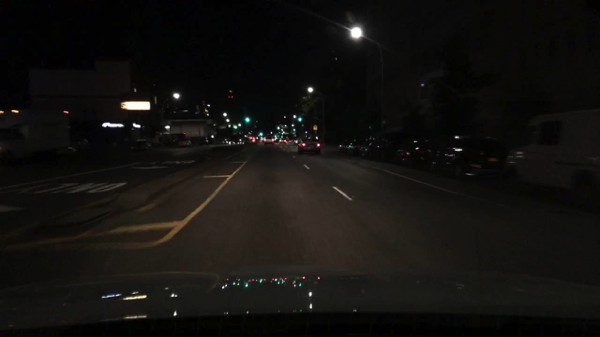car: (501, 110, 597, 208), (431, 133, 505, 178), (393, 136, 440, 167), (362, 135, 394, 162), (345, 136, 367, 155), (298, 137, 322, 154), (129, 139, 153, 153), (177, 136, 191, 148), (339, 138, 349, 154), (196, 136, 210, 146), (263, 136, 275, 146), (219, 137, 231, 146), (246, 133, 255, 144), (236, 137, 245, 146), (293, 137, 301, 146), (278, 137, 288, 144), (258, 136, 265, 146), (230, 136, 237, 145)
traffic light: (296, 116, 303, 123), (245, 117, 251, 123), (258, 132, 264, 138), (276, 126, 281, 133)
traffic sign: (312, 124, 317, 132)
truck: (1, 111, 70, 172)
